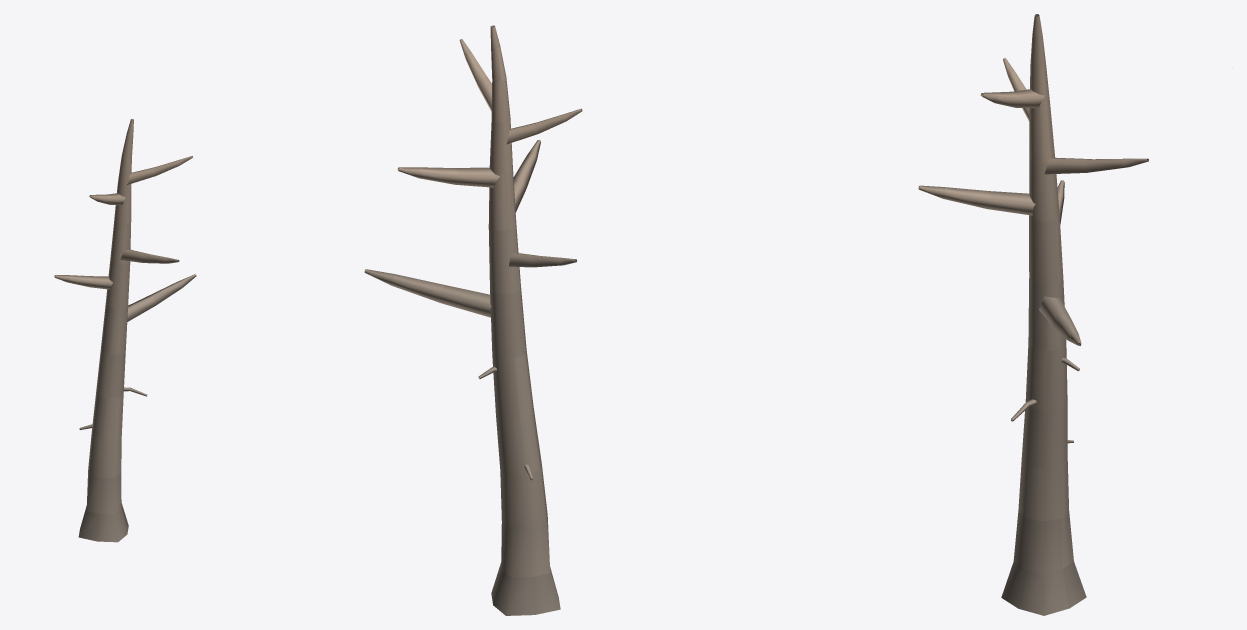
File: ShorePine2_bark.glb
The picture shows the model from 3 angles, left to right: view 1: azimuth 30°, elevation 25°; view 2: azimuth 150°, elevation 25°; view 3: azimuth 270°, elevation 25°; orthographic projection. The views are drawn at different scales.
Visible parts, largest first — view 1: ShorePine2_bark; view 2: ShorePine2_bark; view 3: ShorePine2_bark.
Boxes of the visible parts, <box> form: ShorePine2_bark: <box>54,119,196,542</box>; ShorePine2_bark: <box>364,25,582,615</box>; ShorePine2_bark: <box>918,14,1232,615</box>.
Size of the model in its own units: 15.11 by 20.45 by 10.93.
